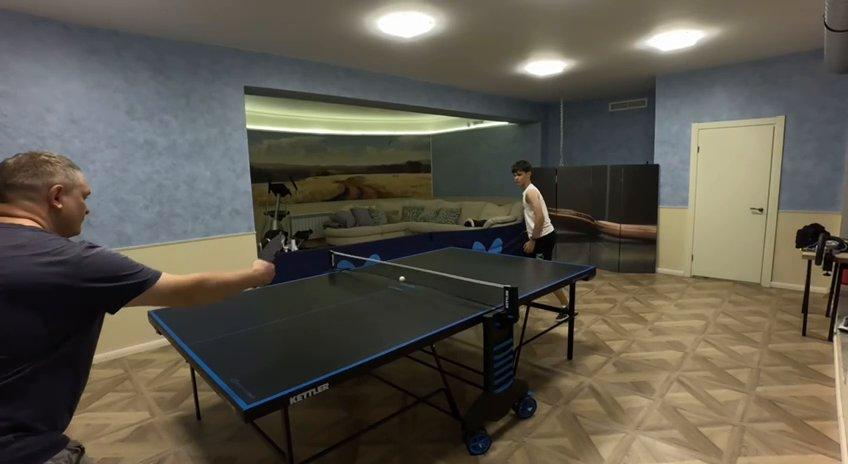Ball: (398, 274, 406, 283)
Net: (330, 250, 518, 315)
Player1: (512, 160, 555, 259)
Player2: (0, 151, 277, 463)
Table: (149, 247, 595, 407)
